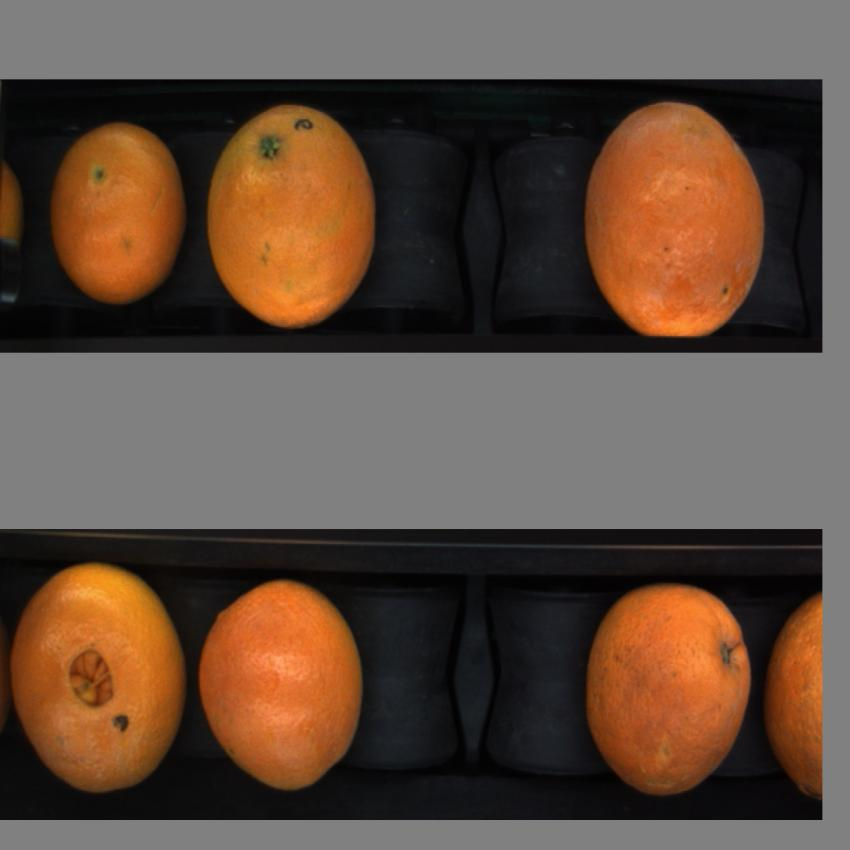Buen estado: (576, 98, 767, 340), (6, 564, 192, 798), (195, 572, 391, 793), (583, 569, 751, 802), (44, 124, 193, 306), (760, 574, 824, 804)
Mal estado: (200, 107, 384, 326)
